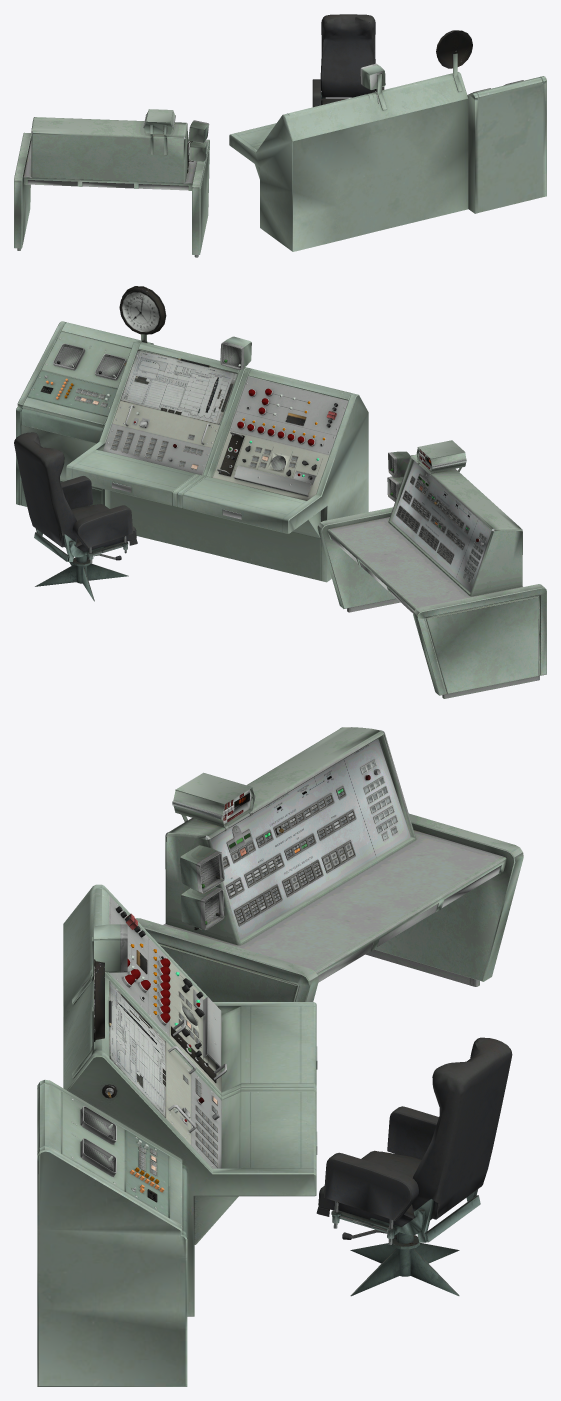
The model's file is Control Desk.fbx.
3 views of the same model, one above another, from view 1: azimuth 30°, elevation 25°; view 2: azimuth 150°, elevation 25°; view 3: azimuth 270°, elevation 25° (orthographic). The views are drawn at different scales.
Parts seen in each view (by area): view 1: grab 1_Material #14_0, grab 2_main_desk_0, grab3_control_chair_0; view 2: grab 1_Material #14_0, grab 2_main_desk_0, grab3_control_chair_0, grab 4_control_chair_0; view 3: grab 1_Material #14_0, grab 2_main_desk_0, grab3_control_chair_0, grab 4_control_chair_0.
Boxes of the visible parts, x1,y1,x2,y2 form: grab 1_Material #14_0: [229, 30, 546, 251]; grab 2_main_desk_0: [14, 109, 209, 257]; grab3_control_chair_0: [312, 14, 384, 107]; grab 1_Material #14_0: [16, 286, 368, 582]; grab 2_main_desk_0: [317, 440, 546, 698]; grab3_control_chair_0: [14, 432, 137, 563]; grab 4_control_chair_0: [35, 554, 128, 601]; grab 1_Material #14_0: [37, 884, 317, 1386]; grab 2_main_desk_0: [135, 727, 523, 1001]; grab3_control_chair_0: [316, 1037, 512, 1244]; grab 4_control_chair_0: [342, 1229, 459, 1296].
Bounding box in the file's own units: 414 × 151 × 191.
3 materials, 3 textured.
